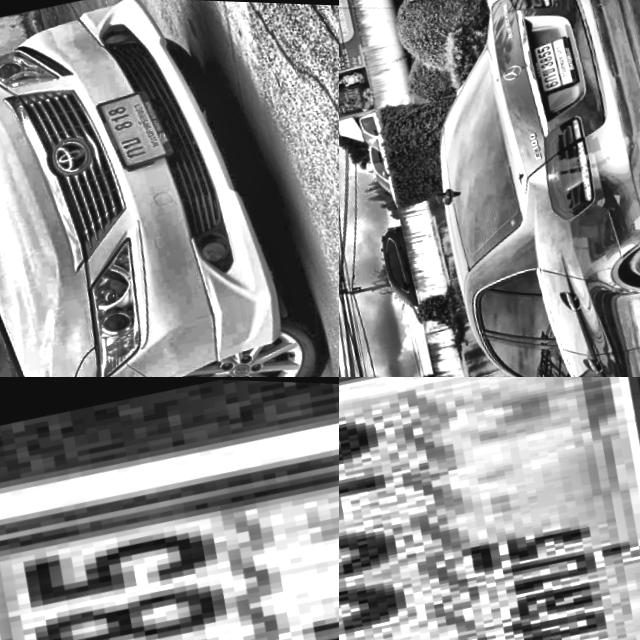license-plate: (0, 377, 339, 640), (339, 377, 640, 640), (89, 77, 187, 177), (528, 27, 586, 93)
